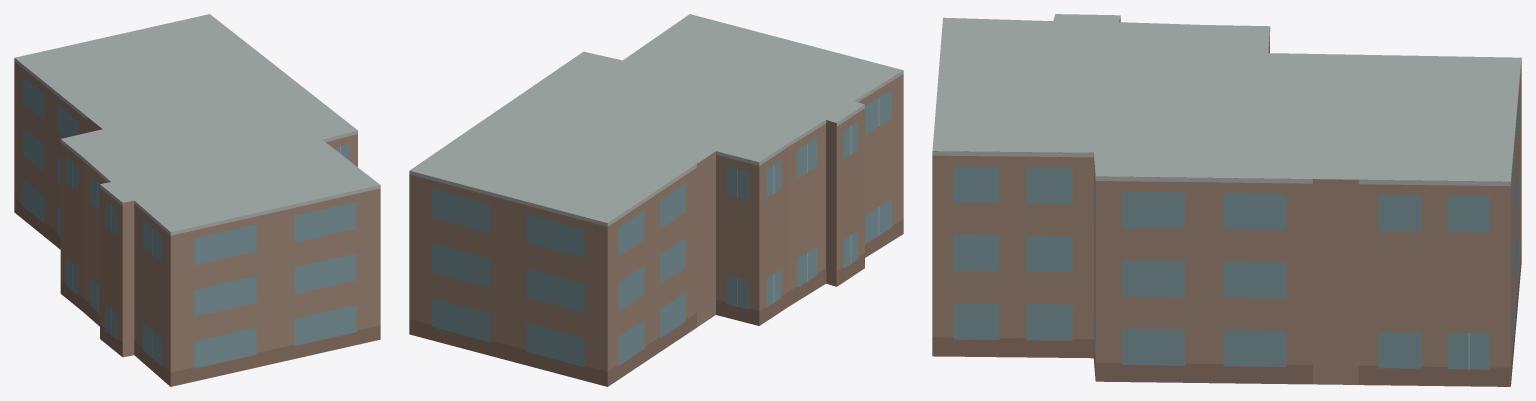
Rendered from survey-upis-32471204.glb.
3 renders of one model, left to right at view 1: azimuth 30°, elevation 25°; view 2: azimuth 150°, elevation 25°; view 3: azimuth 270°, elevation 25°, orthographic. The views are drawn at different scales.
Parts seen in each view (by area): view 1: survey-upis-32471204.tmp; view 2: survey-upis-32471204.tmp; view 3: survey-upis-32471204.tmp.
Part boxes in pixels (<box>): survey-upis-32471204.tmp: <box>14,14,380,386</box>; survey-upis-32471204.tmp: <box>409,14,903,386</box>; survey-upis-32471204.tmp: <box>932,14,1521,386</box>.
Size of the model in its own units: 19.09 by 10.9 by 28.35.
